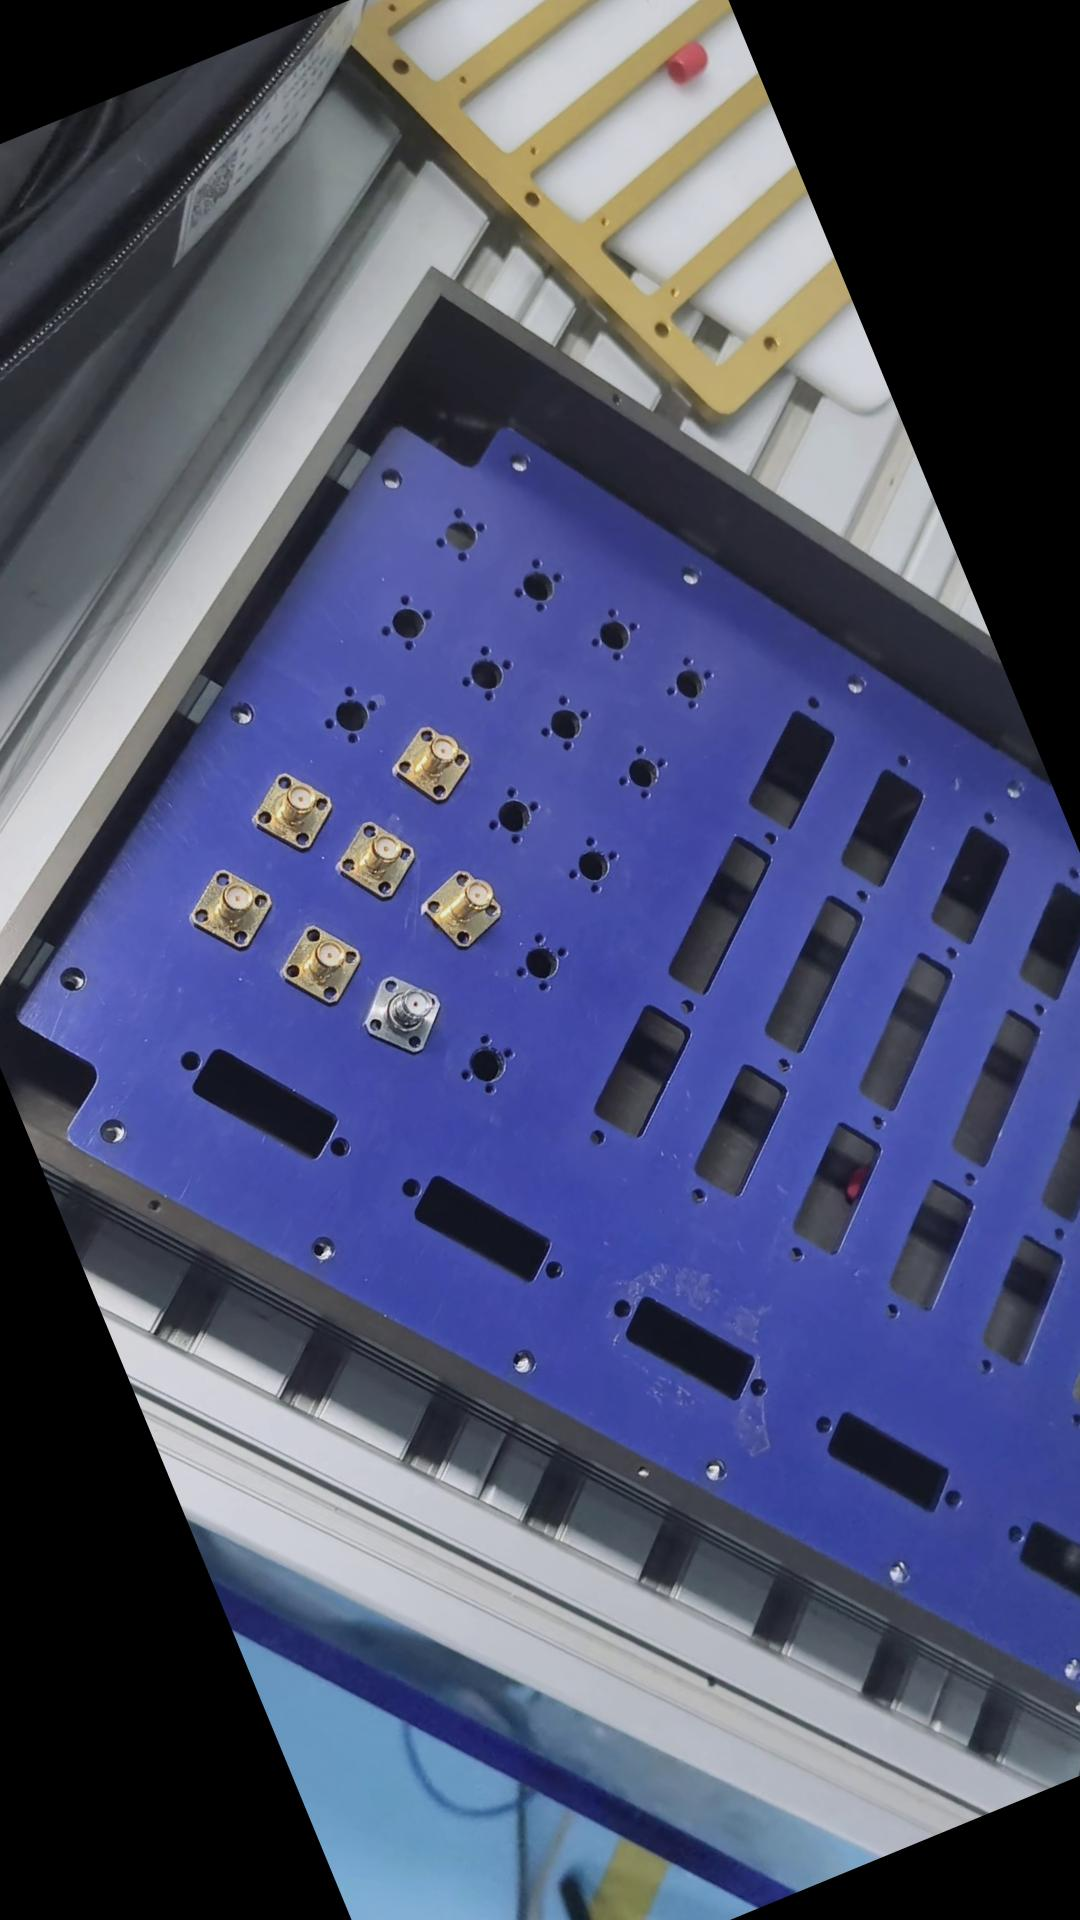SMA: (174, 851, 289, 964), (262, 905, 376, 1015), (349, 953, 460, 1063), (384, 707, 491, 816), (241, 756, 349, 862), (326, 803, 430, 909), (417, 858, 516, 957)
